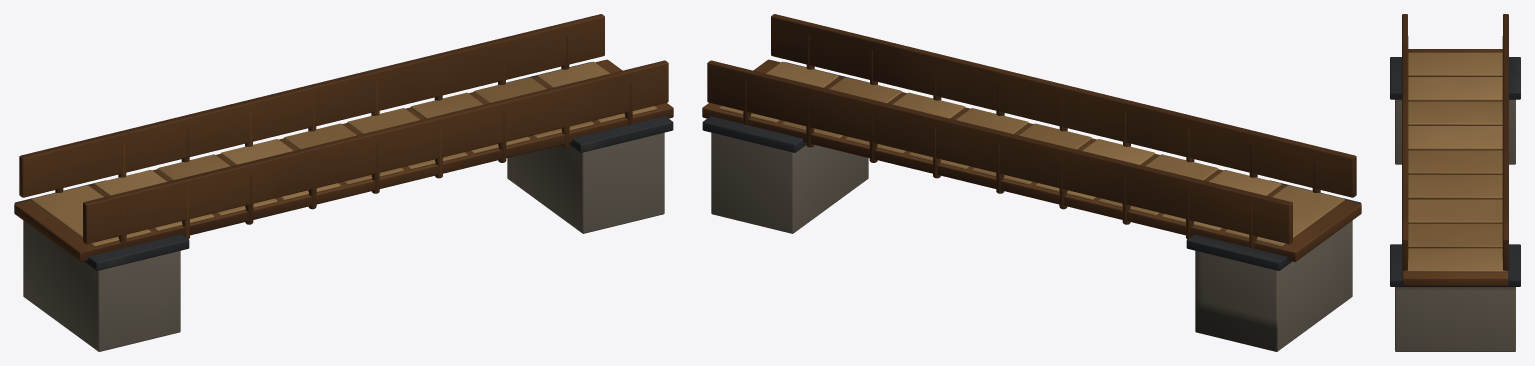
The model's file is building_bridge.fbx.
3 views of the same model, side by side, from view 1: azimuth 30°, elevation 25°; view 2: azimuth 150°, elevation 25°; view 3: azimuth 270°, elevation 25° (orthographic). The views are drawn at different scales.
Visible parts, largest first — view 1: building_bridge; view 2: building_bridge; view 3: building_bridge.
Boxes of the visible parts, x1,y1,x2,y2 form: building_bridge: [14, 14, 673, 351]; building_bridge: [702, 14, 1361, 351]; building_bridge: [1390, 14, 1520, 351].
Size of the model in its own units: 10.8 by 2.55 by 2.6.
